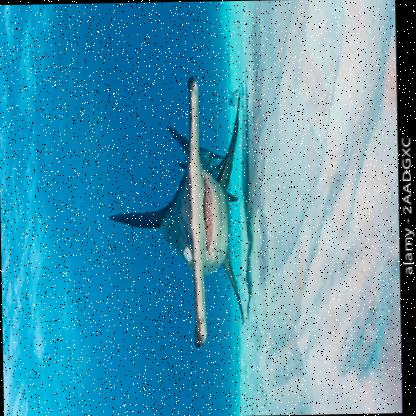hammerhead_Shark: (87, 61, 271, 379)
